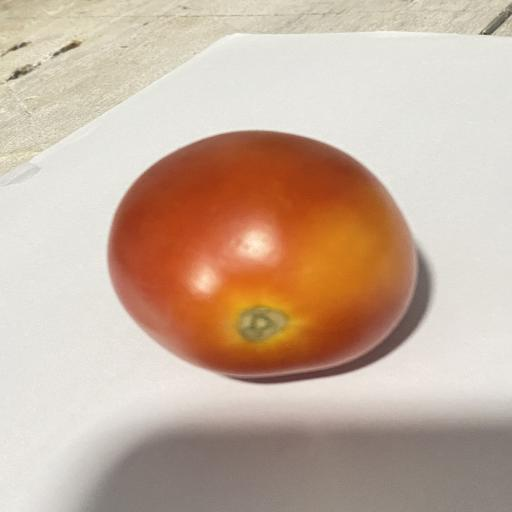ripe: (109, 131, 417, 377)
